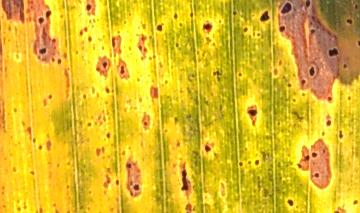tarspot: (180, 166, 189, 194), (279, 1, 297, 15), (258, 8, 272, 25), (325, 45, 340, 59), (285, 195, 298, 210), (343, 15, 355, 29), (246, 107, 259, 119), (130, 181, 142, 194), (307, 64, 317, 79), (109, 35, 118, 51), (155, 21, 164, 36), (337, 128, 345, 144), (104, 130, 113, 144), (37, 45, 48, 56), (276, 23, 287, 34), (235, 70, 246, 81), (203, 142, 212, 155), (325, 93, 334, 106), (101, 58, 109, 72), (310, 150, 320, 161), (302, 1, 313, 11), (236, 159, 246, 170), (240, 25, 250, 36), (124, 161, 134, 172), (84, 2, 93, 14), (231, 8, 240, 20), (341, 61, 349, 74), (44, 9, 54, 19), (171, 11, 180, 22), (308, 26, 317, 37), (325, 118, 333, 130), (303, 152, 311, 164), (37, 15, 46, 25), (350, 197, 360, 206), (345, 94, 354, 104), (285, 81, 294, 91), (141, 119, 151, 128), (187, 11, 196, 21), (118, 65, 126, 76), (299, 77, 307, 88), (114, 177, 122, 188), (86, 34, 94, 45), (104, 85, 111, 97), (202, 22, 211, 31), (312, 171, 321, 180), (295, 162, 305, 170), (50, 36, 58, 45), (47, 92, 55, 101), (254, 158, 261, 168), (137, 43, 144, 53), (56, 57, 63, 66)
